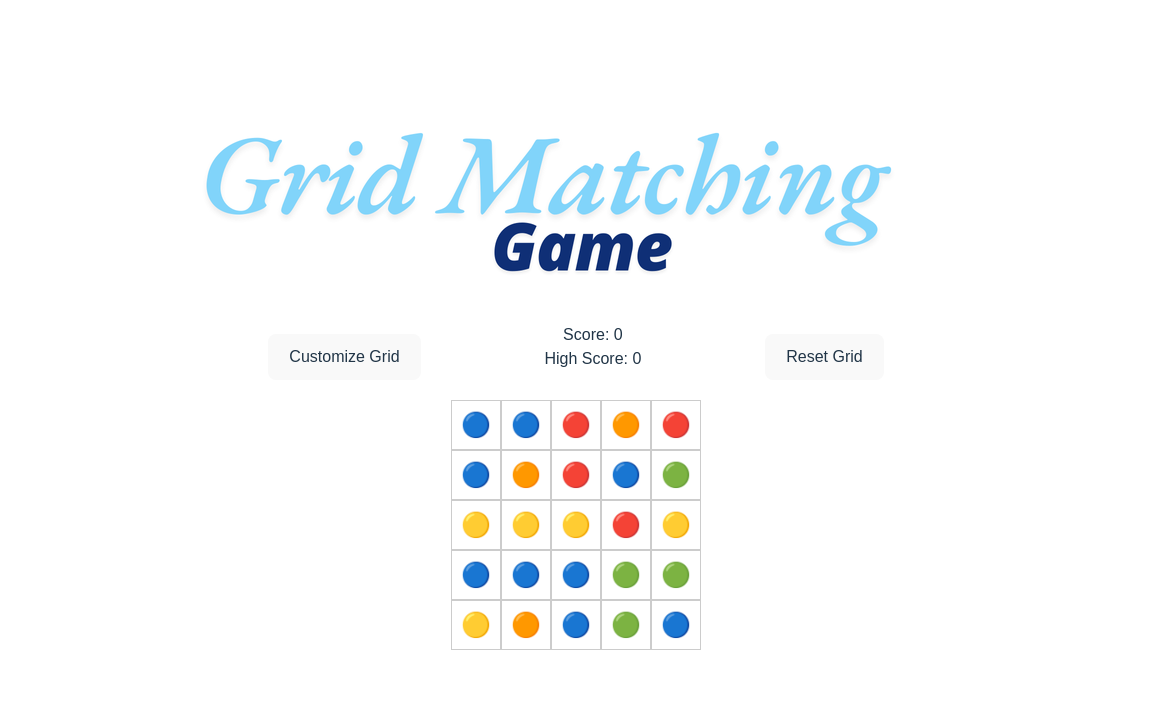
Test: App Component › opens modal when clicking Customize Grid
Click the button "Customize Grid".
click(344, 356)  # box [268,334,421,380]
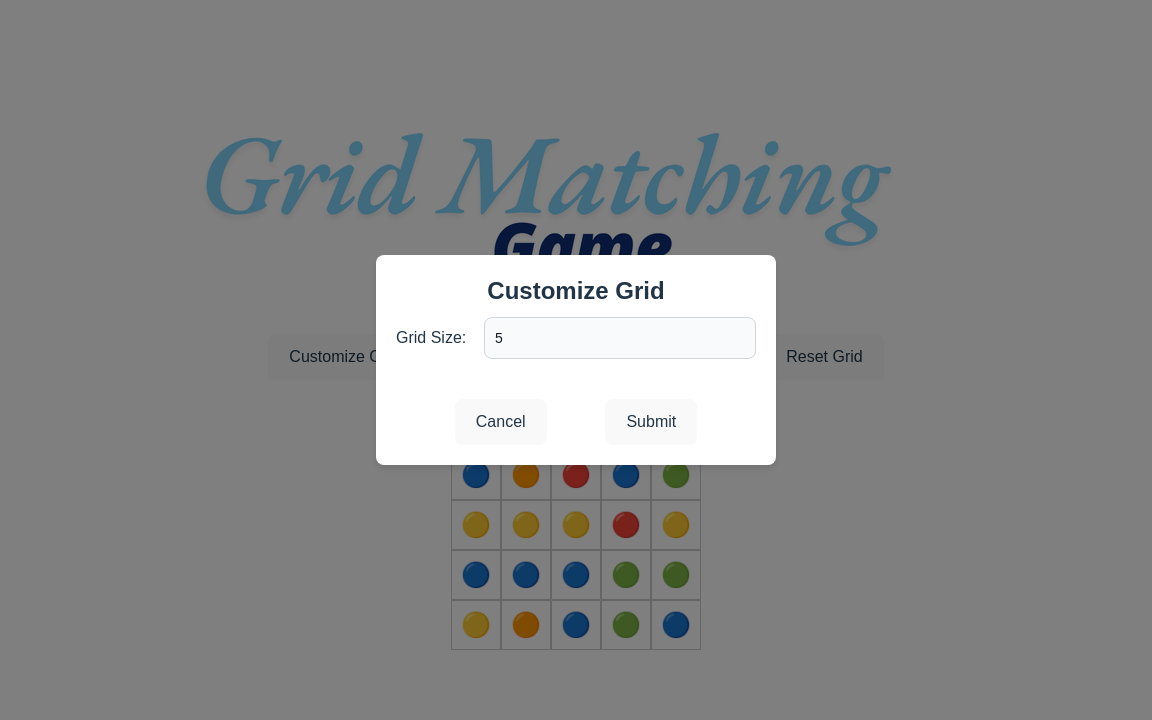
Now the text "Grid Size:" is shown, box [396,329,466,346]
